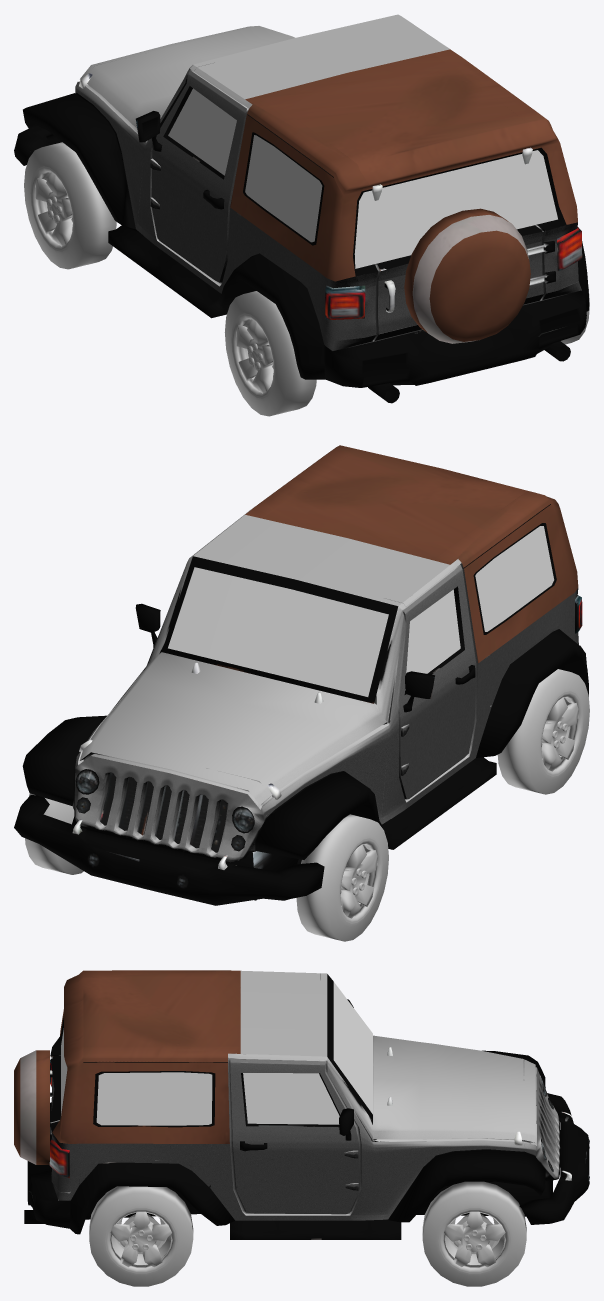
Rendered from wrangler 2012 sketch.fbx.
The picture shows the model from 3 angles, top to bottom: view 1: azimuth 30°, elevation 25°; view 2: azimuth 150°, elevation 25°; view 3: azimuth 270°, elevation 25°; orthographic projection. The views are drawn at different scales.
Parts seen in each view (by area): view 1: exterior.001, body.008, transparent.005, wrangler jeep tire, wrangler jeep tire.001; view 2: exterior.001, body.008, transparent.005, wrangler jeep tire, wrangler jeep tire.001, wrangler jeep tire.003; view 3: exterior.001, body.008, transparent.005, wrangler jeep tire.003, wrangler jeep tire.002.
Boxes of the visible parts, x1,y1,x2,y2 form: exterior.001: [14, 49, 588, 403]; body.008: [75, 14, 581, 351]; transparent.005: [168, 88, 557, 268]; wrangler jeep tire: [24, 142, 116, 269]; wrangler jeep tire.001: [224, 291, 316, 416]; exterior.001: [14, 445, 588, 905]; body.008: [72, 509, 578, 862]; transparent.005: [168, 526, 554, 696]; wrangler jeep tire: [296, 814, 388, 941]; wrangler jeep tire.001: [497, 669, 589, 794]; wrangler jeep tire.003: [25, 793, 83, 874]; exterior.001: [14, 970, 589, 1239]; body.008: [50, 970, 560, 1220]; transparent.005: [61, 982, 372, 1125]; wrangler jeep tire.003: [422, 1181, 526, 1286]; wrangler jeep tire.002: [89, 1186, 193, 1286].
Size of the model in its own units: 290 by 228 by 554.
